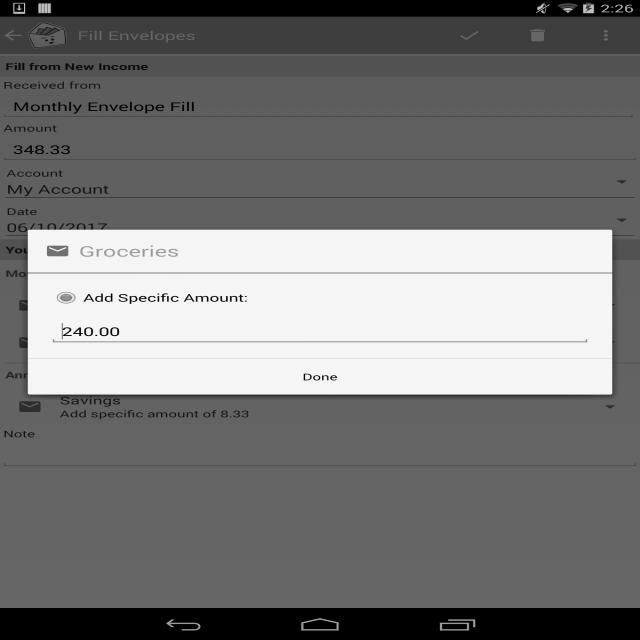Button: (28, 358, 612, 394)
EditText: (49, 318, 591, 345)
ImageView: (45, 243, 79, 259)
RadioButton: (49, 287, 248, 308)
TextView: (79, 241, 595, 261)
